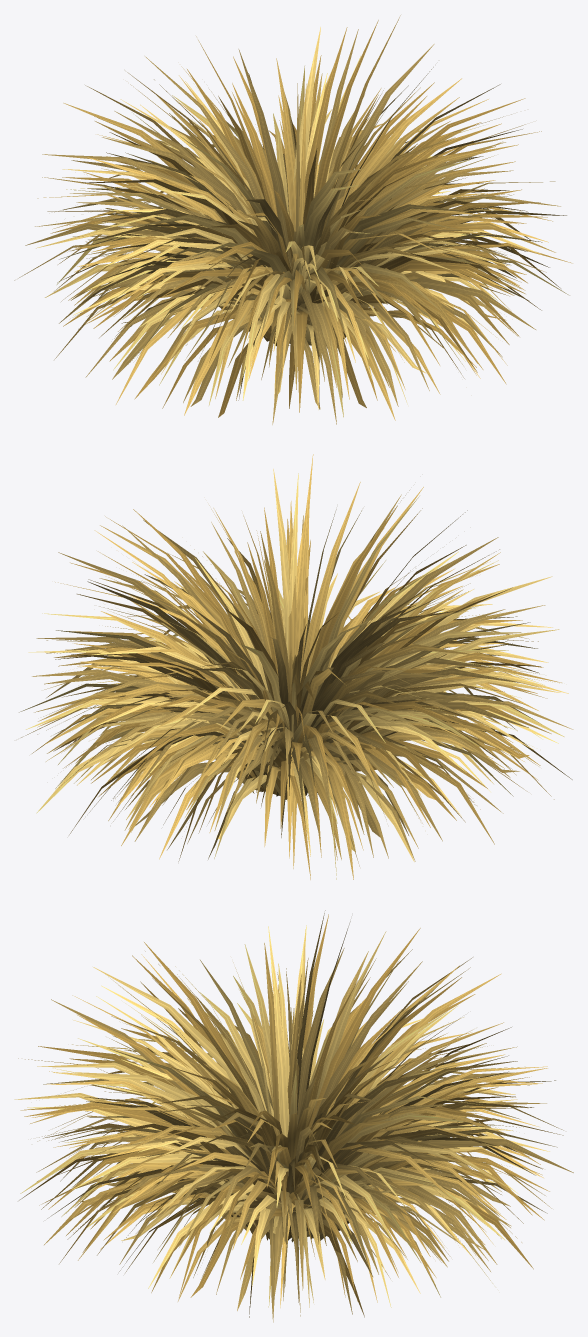
File: alpine_tussock_v02.fbx
The picture shows the model from 3 angles, top to bottom: view 1: azimuth 30°, elevation 25°; view 2: azimuth 150°, elevation 25°; view 3: azimuth 270°, elevation 25°; orthographic projection.
Visible parts, largest first — view 1: alpine_tussock_v02; view 2: alpine_tussock_v02; view 3: alpine_tussock_v02.
Part boxes in pixels (x1,y1,x2,y2): alpine_tussock_v02: [14, 15, 572, 424]; alpine_tussock_v02: [19, 454, 573, 879]; alpine_tussock_v02: [14, 910, 573, 1322].
Size of the model in its own units: 63.97 by 63.3 by 30.93.
Materials: 1 (1 with a texture image).
